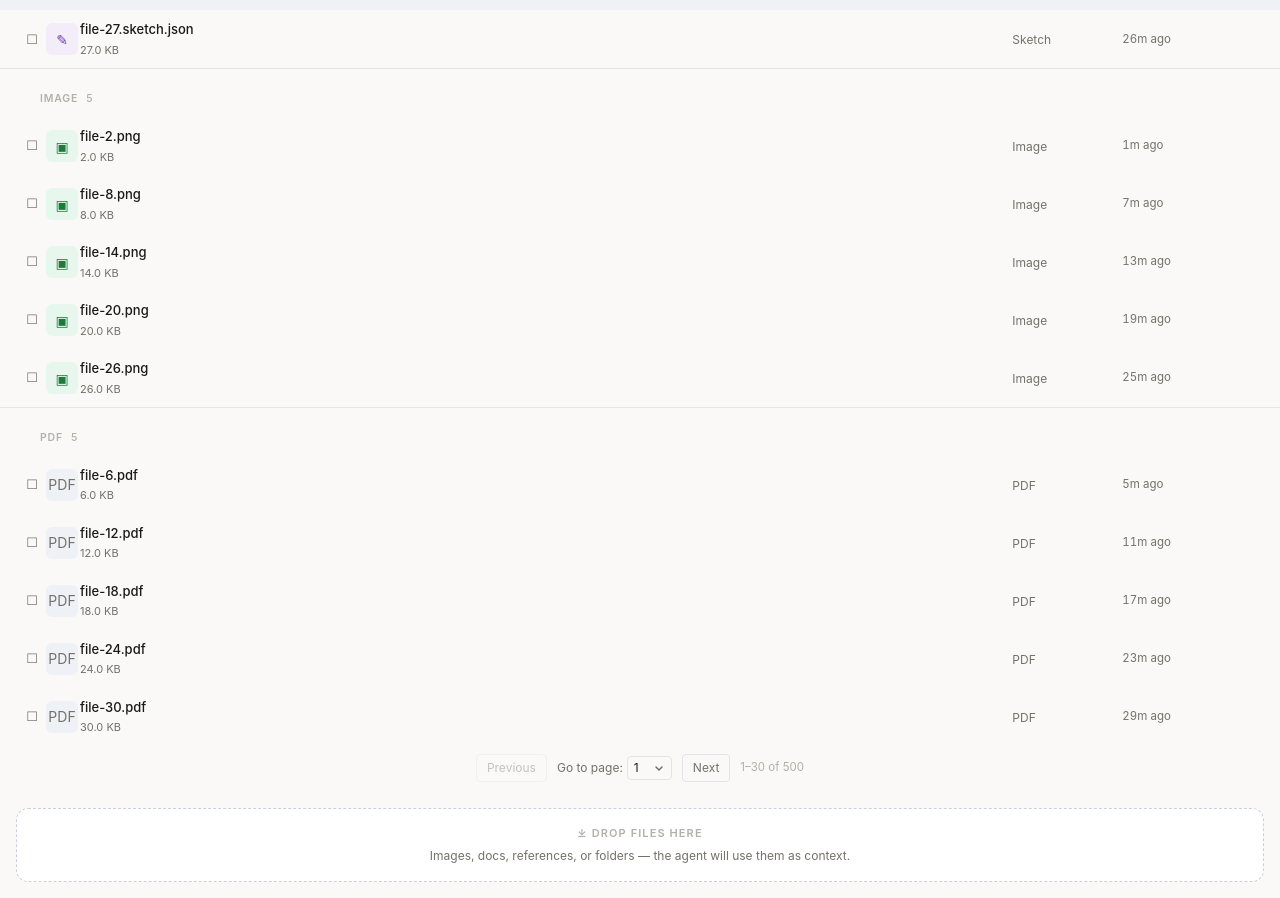
Test: DesignFilesPanel large-list regression › updates page info text when navigating
(page scrolled)
What coordinates should you click on to do the following:
click the button with class "df-page-btn" showing "Next"
I would click on:
 (706, 768)
Its box is [682,754,730,782].
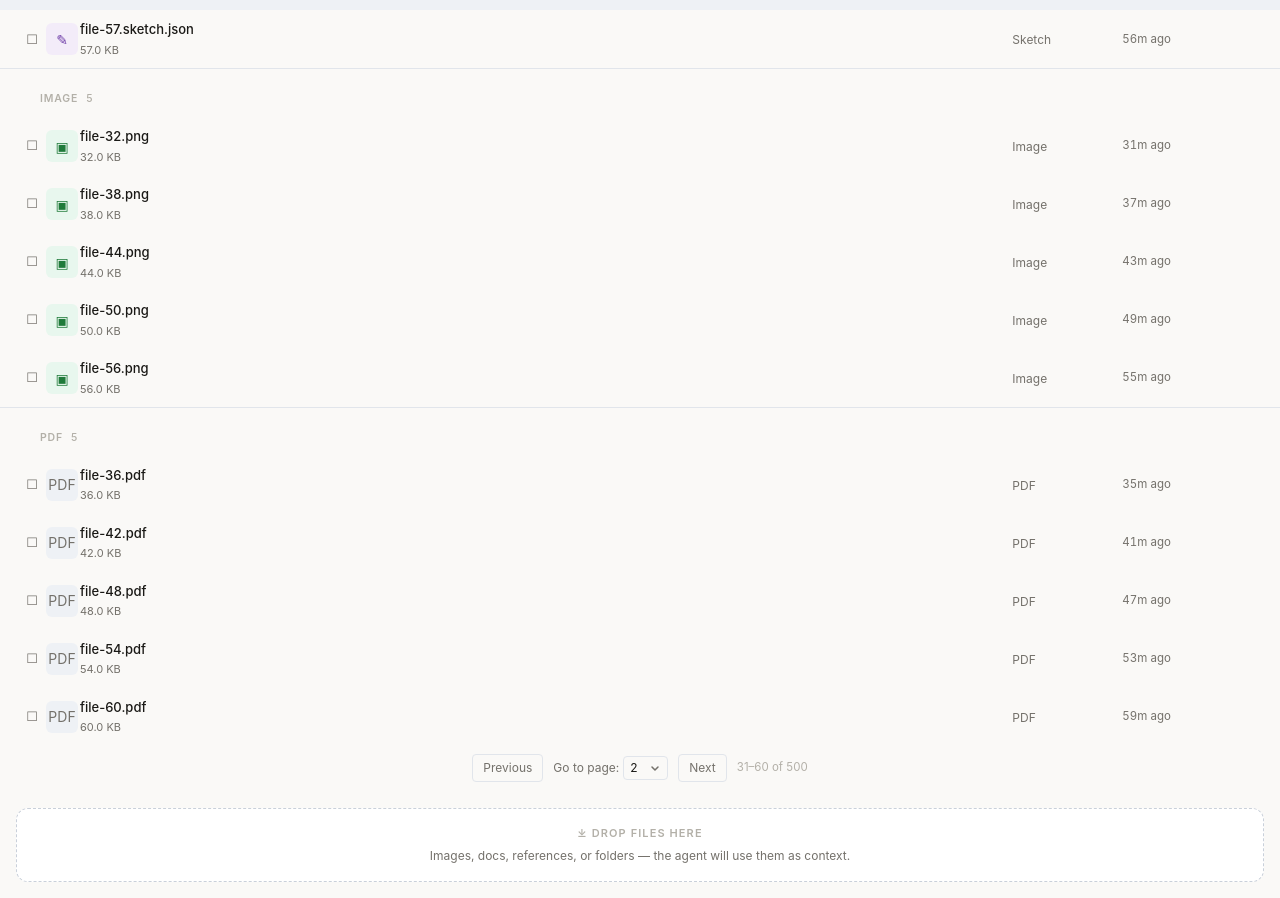
Expected: the text with class "df-page-info" reads "31–60 of 500", [737,760,808,774]
